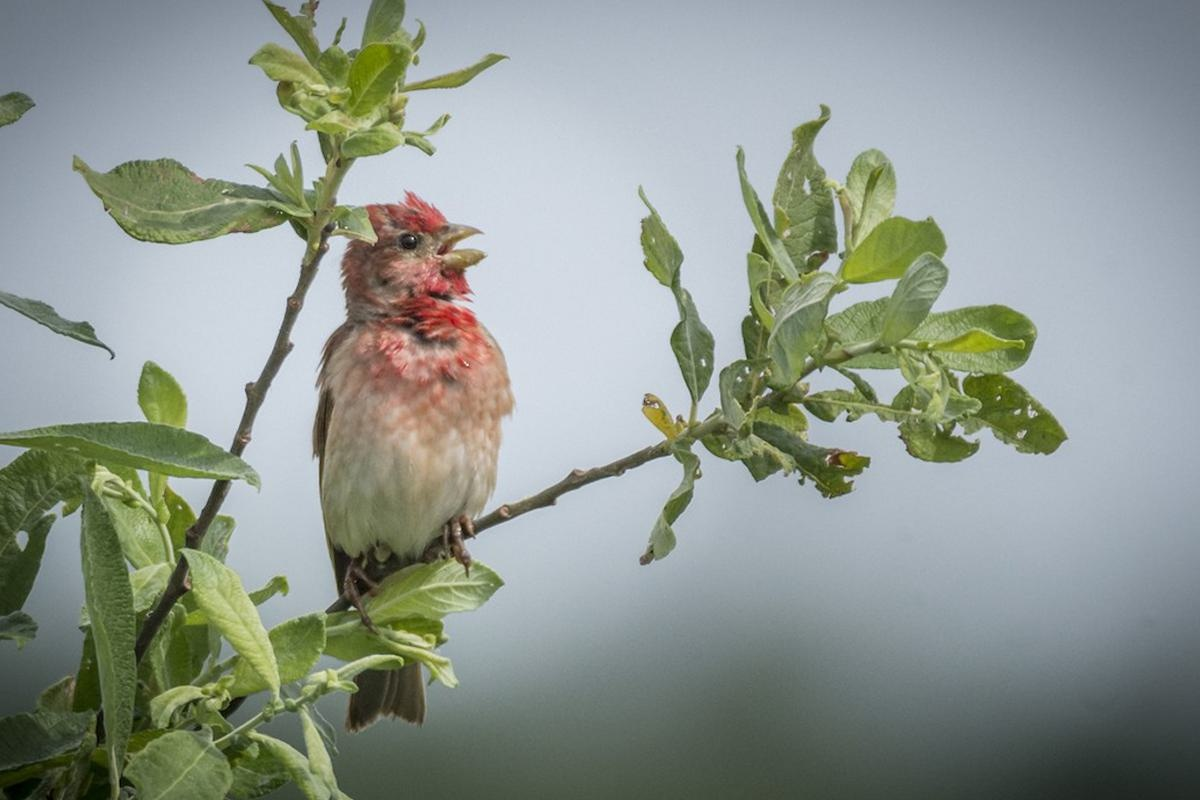rosefinch: (319, 173, 506, 621)
